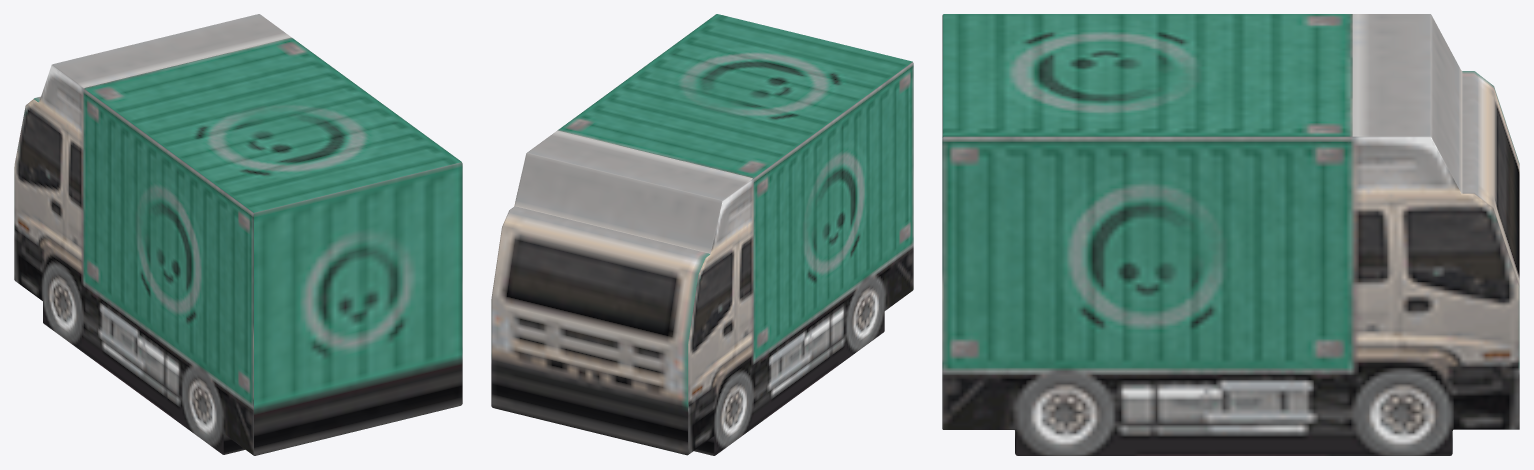
File: truck-green.glb
3 views of the same model, side by side, from view 1: azimuth 30°, elevation 25°; view 2: azimuth 150°, elevation 25°; view 3: azimuth 270°, elevation 25° (orthographic). The views are drawn at different scales.
Visible parts, largest first — view 1: truck-green; view 2: truck-green; view 3: truck-green.
Part boxes in pixels (x1,y1,x2,y2): truck-green: (14,14,462,455); truck-green: (491,14,913,455); truck-green: (942,14,1519,455).
Size of the model in its own units: 0.83 by 1.01 by 1.64.
1 material, 1 textured.
